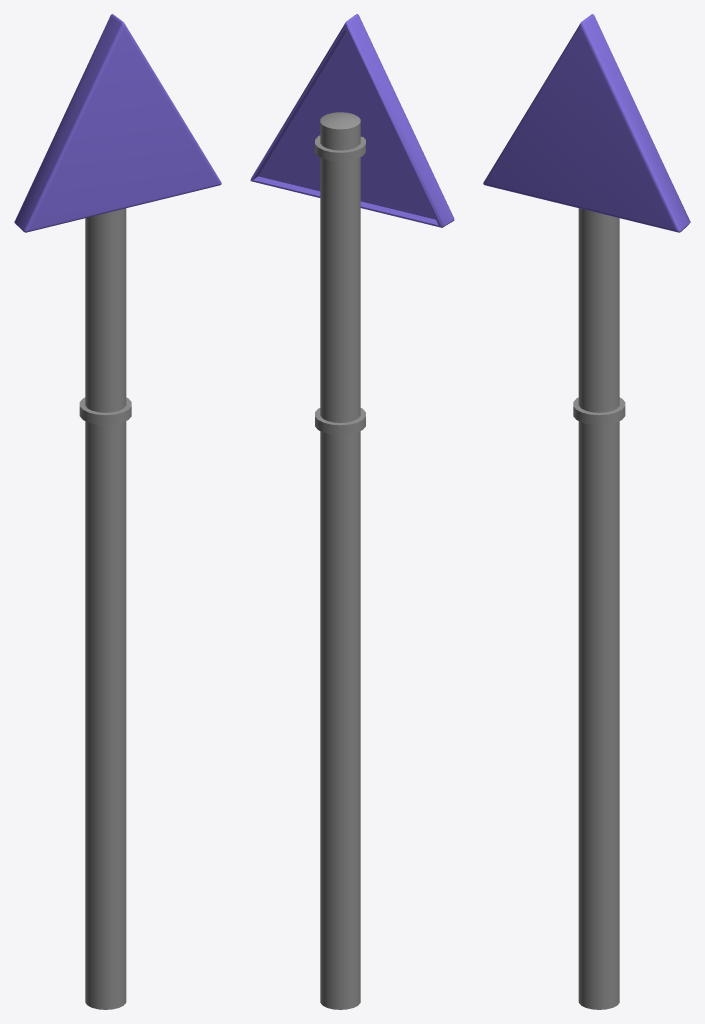
The model's file is TrafficSign_Triangle.FBX.
The picture shows the model from 3 angles, left to right: view 1: azimuth 30°, elevation 25°; view 2: azimuth 150°, elevation 25°; view 3: azimuth 330°, elevation 25°; orthographic projection.
Parts seen in each view (by area): view 1: Traffic_Pole, TrafficSigne_Triangle; view 2: Traffic_Pole, TrafficSigne_Triangle; view 3: Traffic_Pole, TrafficSigne_Triangle.
Part boxes in pixels (x1,y1,x2,y2): Traffic_Pole: [79, 208, 131, 1009]; TrafficSigne_Triangle: [14, 14, 221, 232]; Traffic_Pole: [315, 112, 365, 1009]; TrafficSigne_Triangle: [250, 14, 454, 227]; Traffic_Pole: [573, 208, 625, 1009]; TrafficSigne_Triangle: [483, 14, 690, 232].
Size of the model in its own units: 43.88 by 210 by 12.12.
